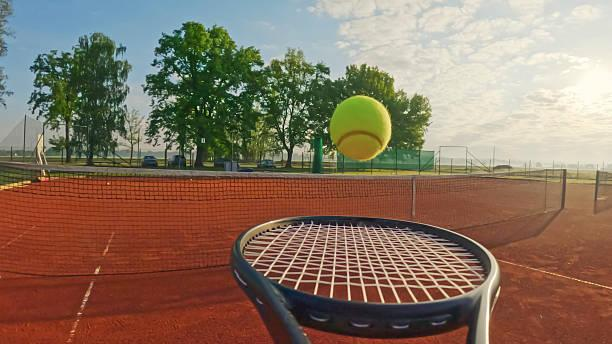ball_tennis: (330, 94, 394, 164)
